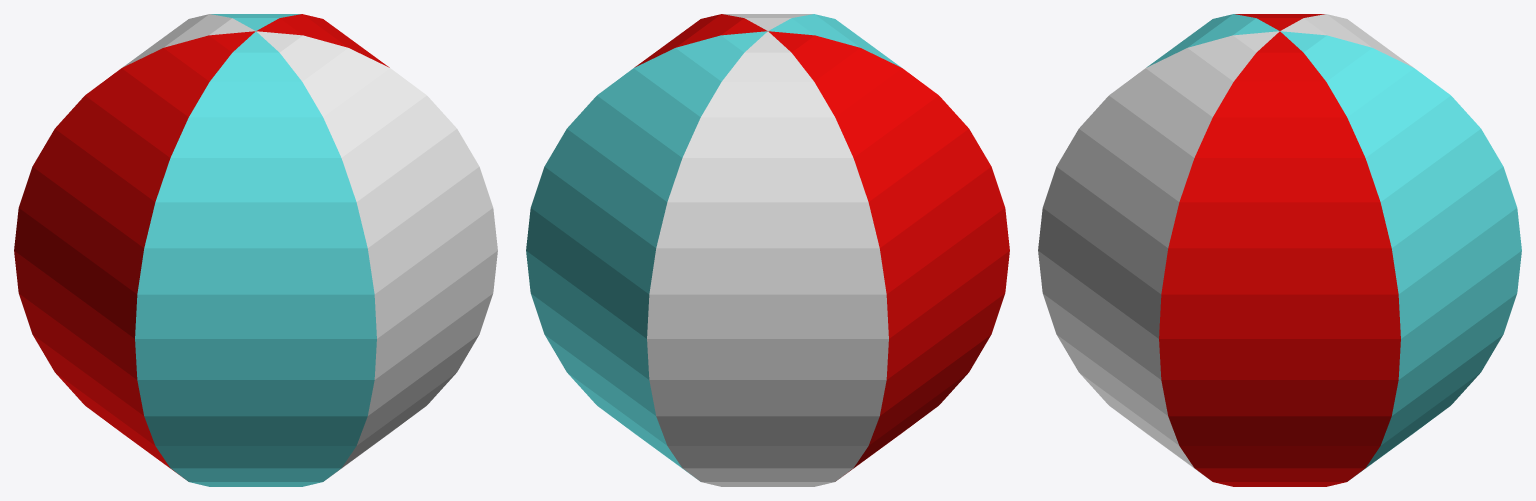
Rendered from beachball.glb.
3 views of the same model, side by side, from view 1: azimuth 30°, elevation 25°; view 2: azimuth 150°, elevation 25°; view 3: azimuth 270°, elevation 25° (orthographic).
Visible parts, largest first — view 1: Sphere; view 2: Sphere; view 3: Sphere.
Boxes of the visible parts, box(x1,y1,x2,y2) form: Sphere: box(14, 14, 497, 486); Sphere: box(526, 14, 1009, 486); Sphere: box(1038, 14, 1521, 486).
Size of the model in its own units: 1.73 by 2 by 2.
